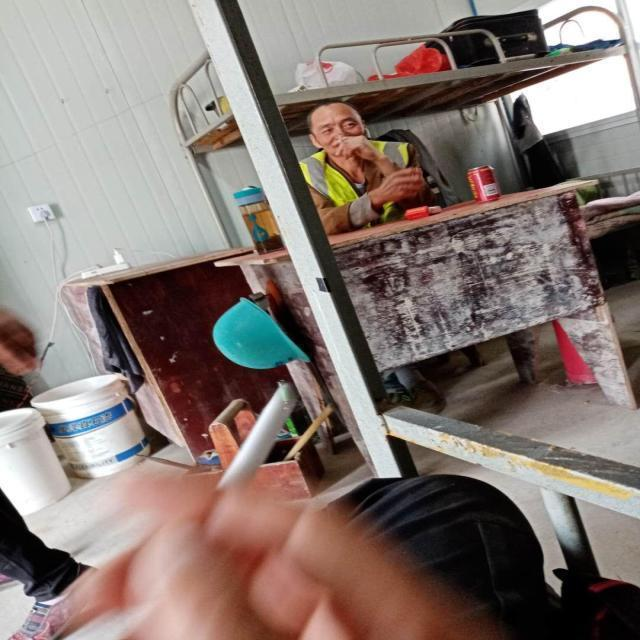rokok: (212, 381, 300, 491)
